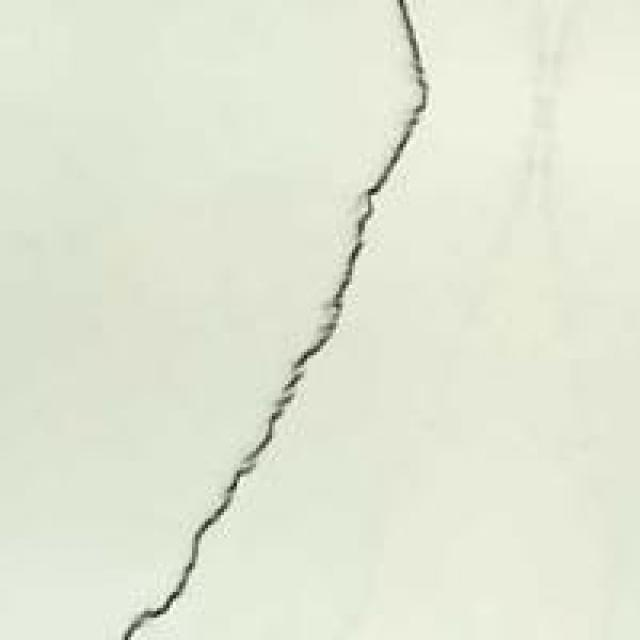Crack: (119, 0, 442, 637)
